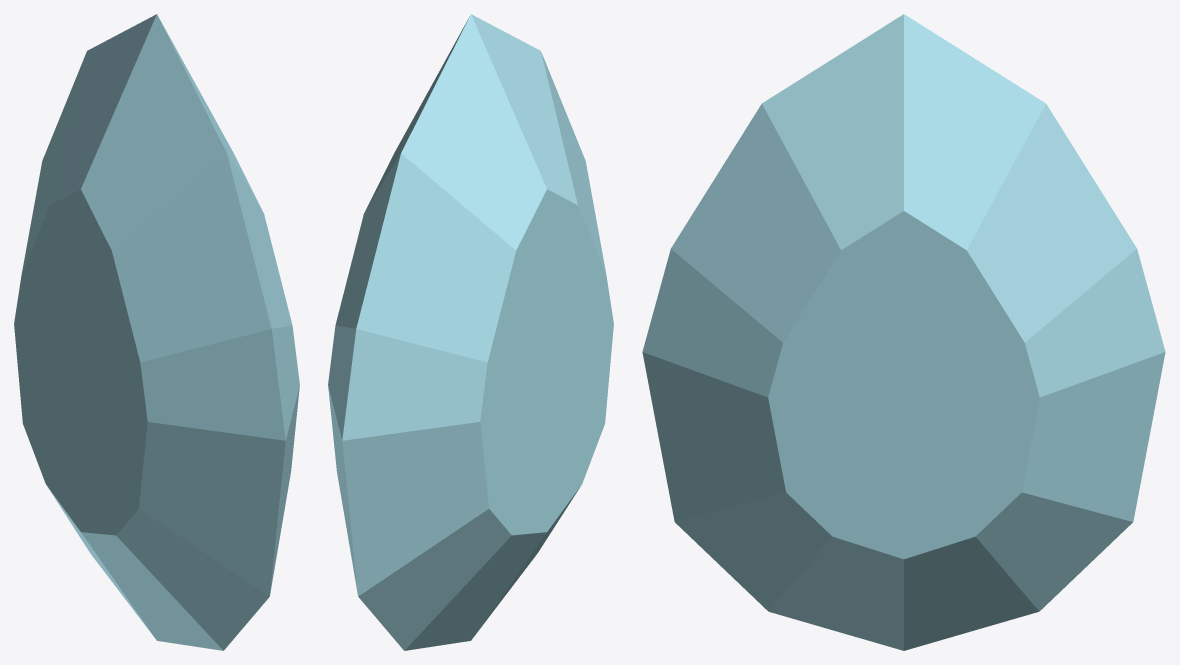
Rendered from Diamond.fbx.
3 renders of one model, left to right at view 1: azimuth 30°, elevation 25°; view 2: azimuth 150°, elevation 25°; view 3: azimuth 270°, elevation 25°, orthographic.
Parts seen in each view (by area): view 1: Diamond; view 2: Diamond; view 3: Diamond.
Boxes of the visible parts, x1,y1,x2,y2 form: Diamond: (14,14,299,650); Diamond: (328,14,613,650); Diamond: (642,14,1165,650).
Size of the model in its own units: 11.46 by 45.07 by 33.55.
